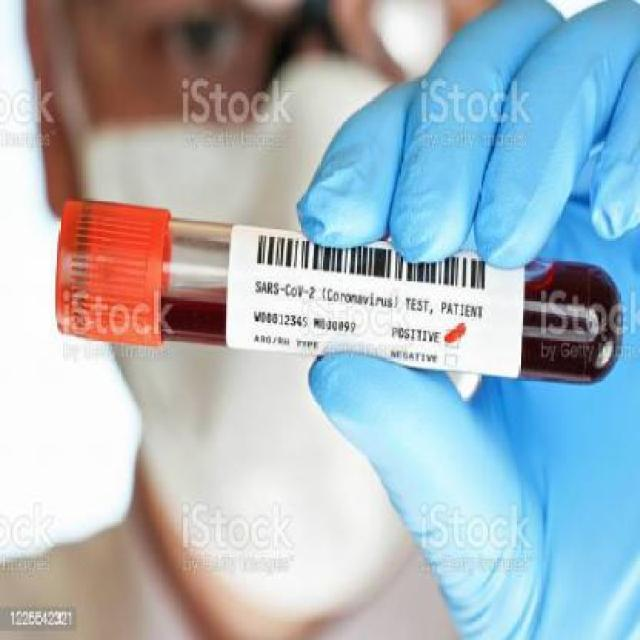Experimental-tube: (56, 196, 624, 387)
